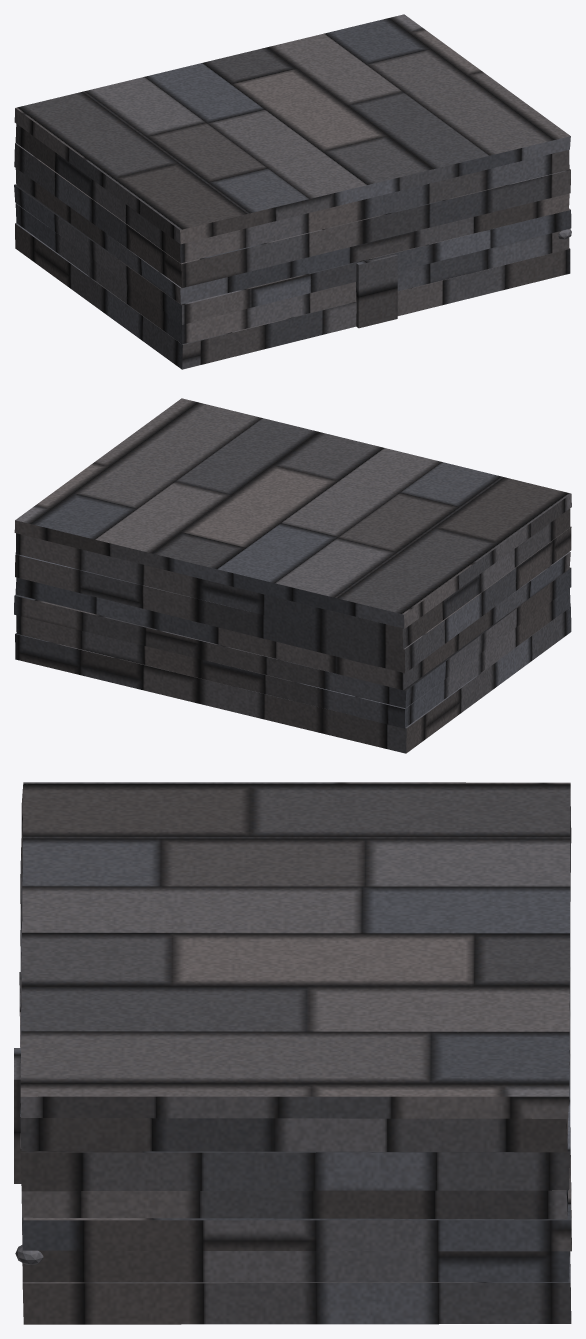
Rendered from kaaba.glb.
3 renders of one model, top to bottom at view 1: azimuth 30°, elevation 25°; view 2: azimuth 150°, elevation 25°; view 3: azimuth 270°, elevation 25°, orthographic. The views are drawn at different scales.
Visible parts, largest first — view 1: Cube; view 2: Cube; view 3: Cube.
Part boxes in pixels (x1,y1,x2,y2): Cube: [14, 14, 571, 369]; Cube: [14, 398, 571, 753]; Cube: [14, 782, 571, 1324].
Bounding box in the file's own units: 13.62 × 4.62 × 10.16.
1 material, 1 textured.
